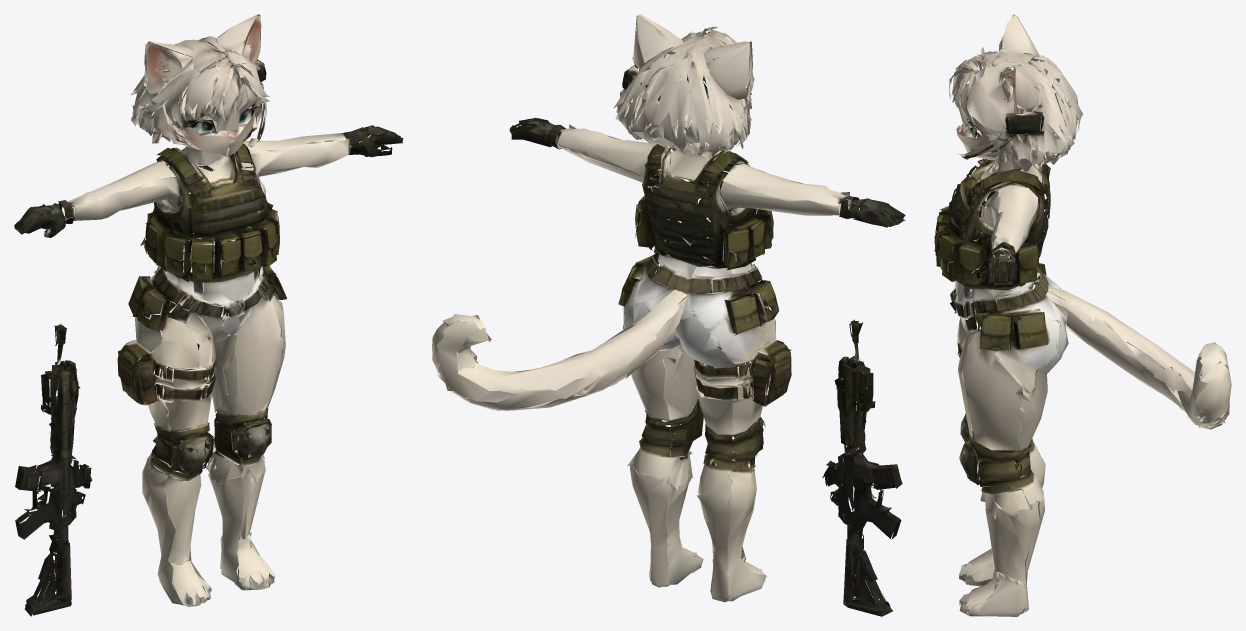
File: cat-soldier-mobile-blender-6k-webp512.glb
3 views of the same model, side by side, from view 1: azimuth 30°, elevation 25°; view 2: azimuth 150°, elevation 25°; view 3: azimuth 270°, elevation 25° (orthographic).
Parts seen in each view (by area): view 1: material; view 2: material; view 3: material.
Part boxes in pixels (x1,y1,x2,y2): material: (14,14,403,616); material: (432,14,905,616); material: (934,14,1231,616).
Size of the model in its own units: 0.7328 by 1.01 by 0.4884.
1 material, 1 textured.
